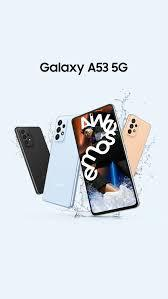Smartphone: (71, 101, 142, 218), (38, 113, 81, 209), (111, 117, 155, 190), (15, 124, 58, 198)
